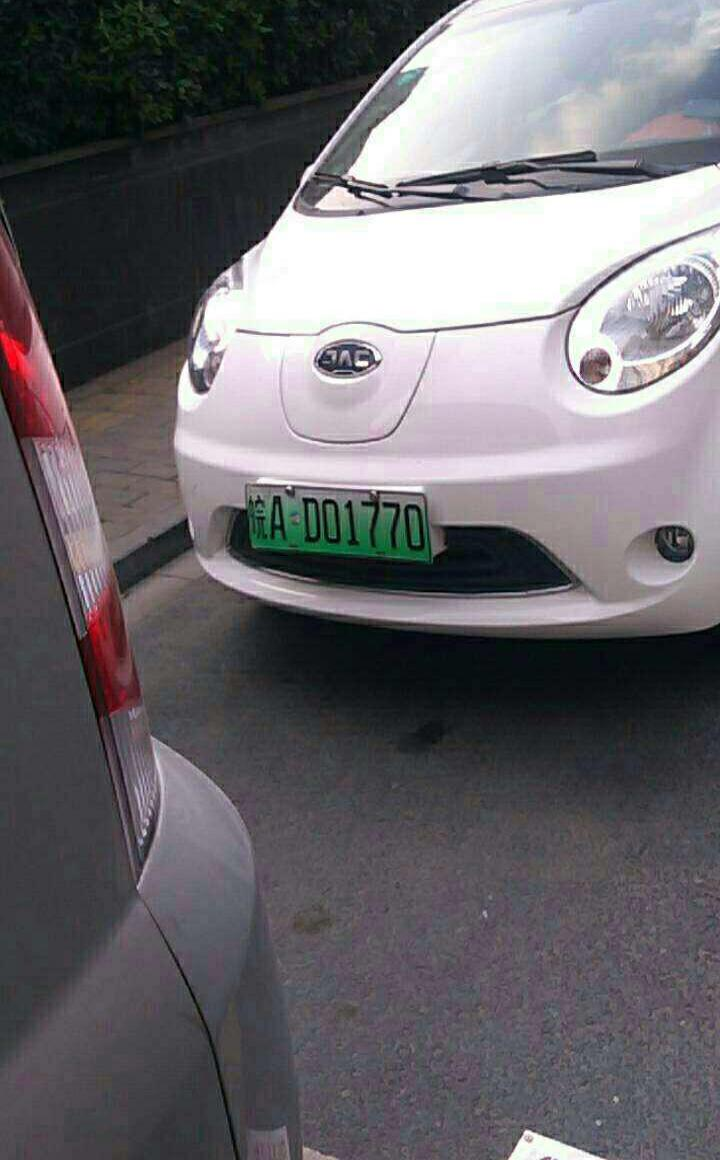car_id: (245, 483, 434, 558)
